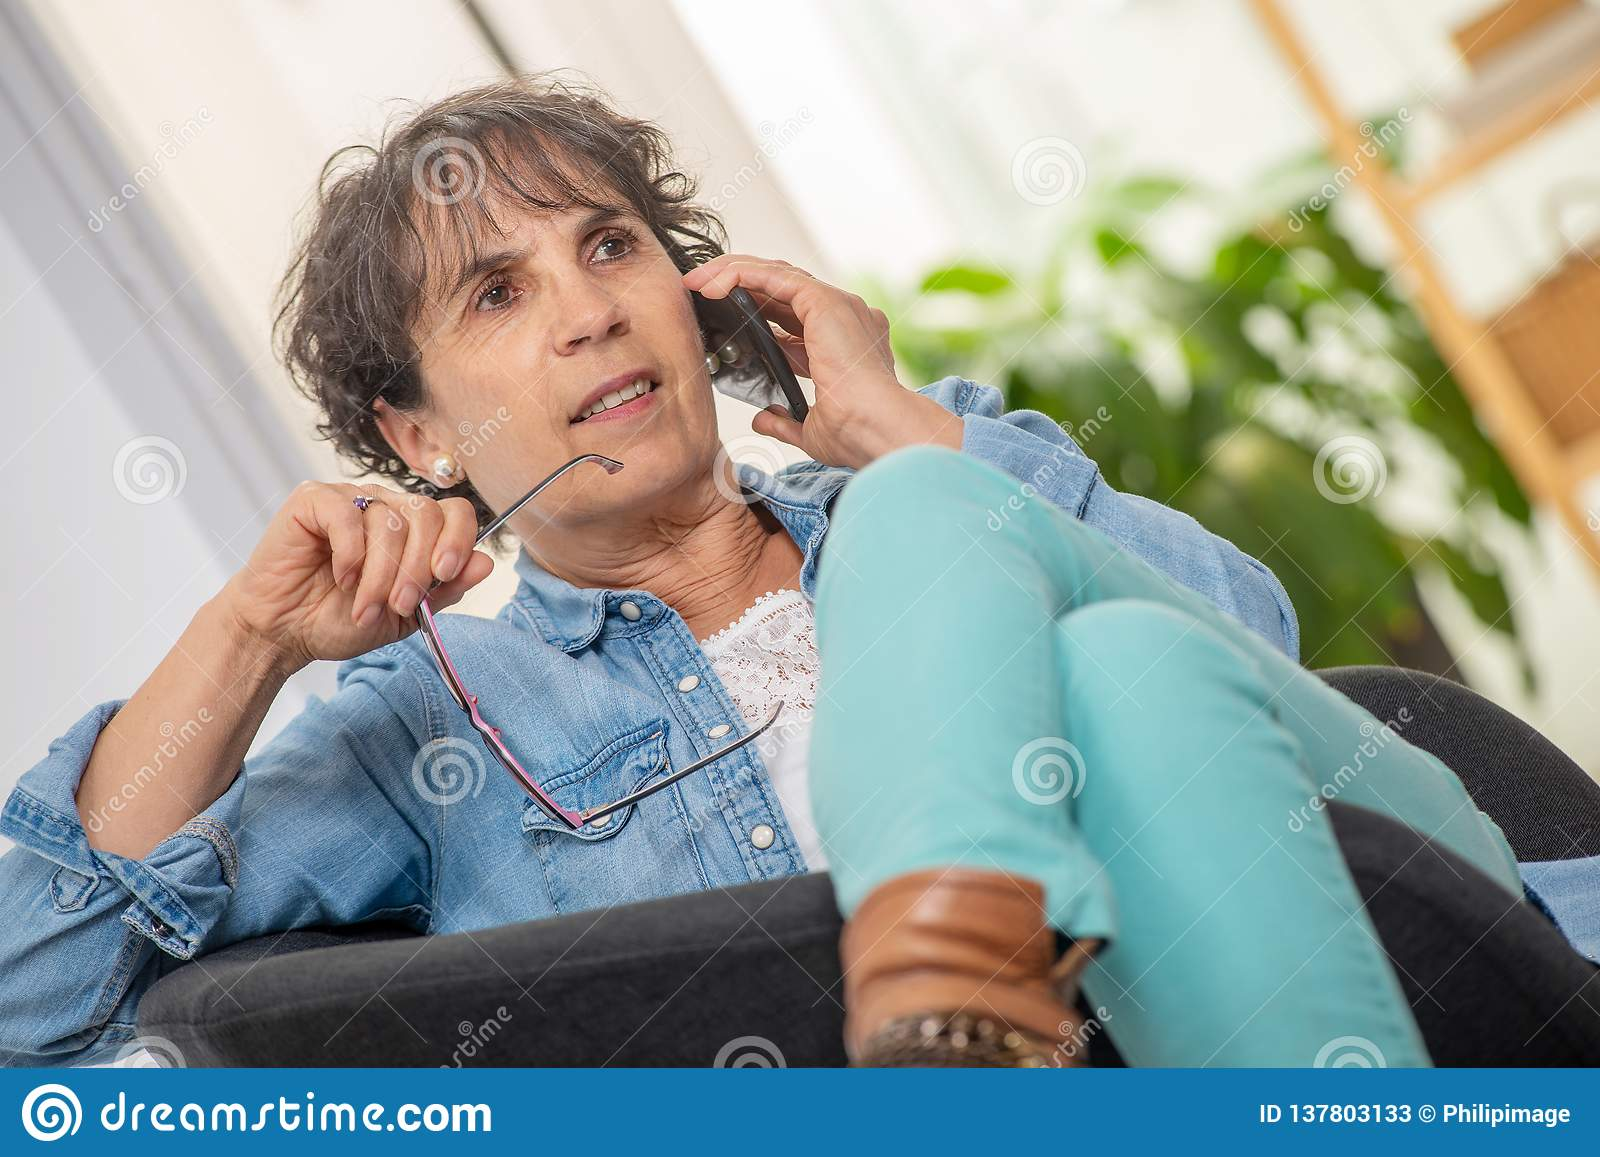phone: (682, 287, 814, 425)
talk: (442, 205, 901, 496)
